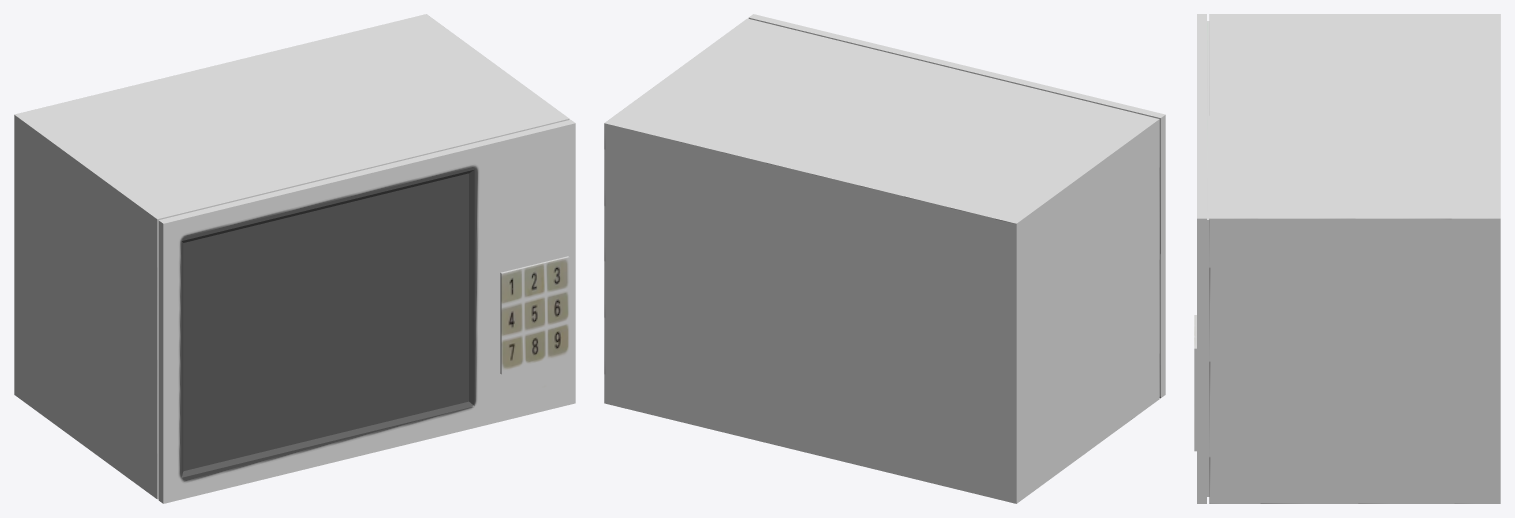
Rendered from Microondas.fbx.
3 views of the same model, side by side, from view 1: azimuth 30°, elevation 25°; view 2: azimuth 150°, elevation 25°; view 3: azimuth 270°, elevation 25° (orthographic).
Visible parts, largest first — view 1: Microondas(Mapeado)(TEXTURIZADO); view 2: Microondas(Mapeado)(TEXTURIZADO); view 3: Microondas(Mapeado)(TEXTURIZADO).
Part boxes in pixels (x1=…): Microondas(Mapeado)(TEXTURIZADO): x1=14, y1=14, x2=575, y2=503; Microondas(Mapeado)(TEXTURIZADO): x1=604, y1=14, x2=1165, y2=503; Microondas(Mapeado)(TEXTURIZADO): x1=1194, y1=14, x2=1500, y2=503.
Size of the model in its own units: 173 by 113 by 110.
